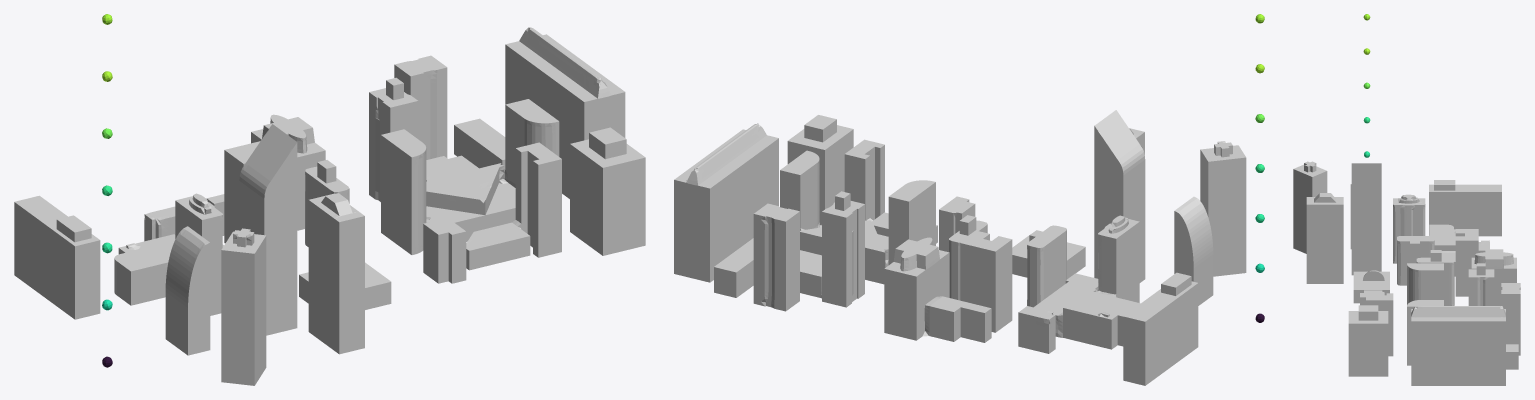
Rendered from wabAnim_Experimental_v2.7.glb.
3 views of the same model, side by side, from view 1: azimuth 30°, elevation 25°; view 2: azimuth 150°, elevation 25°; view 3: azimuth 270°, elevation 25° (orthographic). The views are drawn at different scales.
Parts seen in each view (by area): view 1: Renderer Node; view 2: Renderer Node; view 3: Renderer Node.
Boxes of the visible parts, box(x1,y1,x2,y2) form: Renderer Node: box(14, 14, 645, 385); Renderer Node: box(674, 14, 1264, 385); Renderer Node: box(1293, 14, 1520, 385).
Size of the model in its own units: 0.5517 by 0.3321 by 0.3229.
2 materials, 1 textured.
